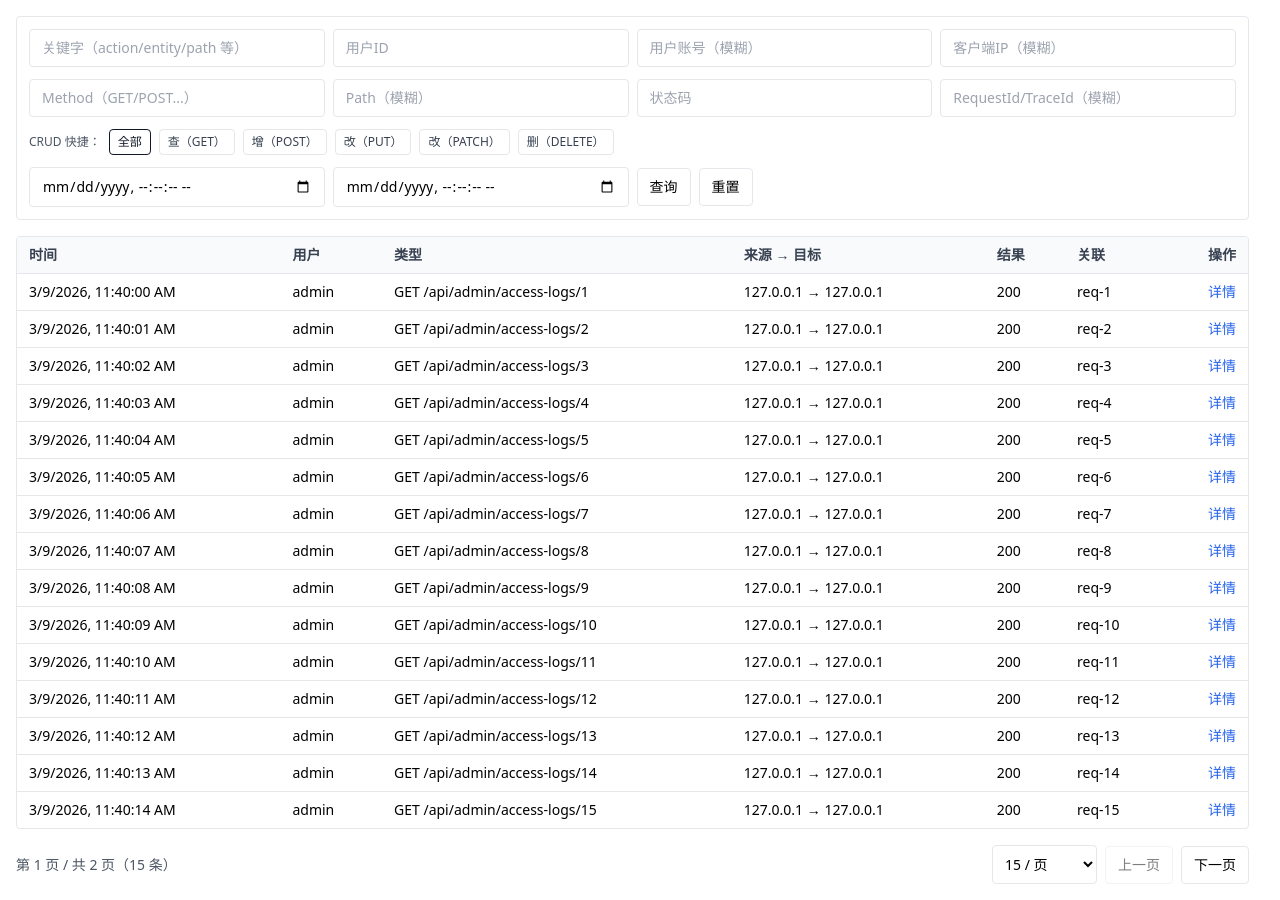
Scenario: GlobalLogsForm › can advance to the next access-log page even when backend totalPages metadata is wrong
The image size is (1280, 900).
(page scrolled)
Click the button "下一页": (1215, 864) [1181,846,1249,884]
(page scrolled)
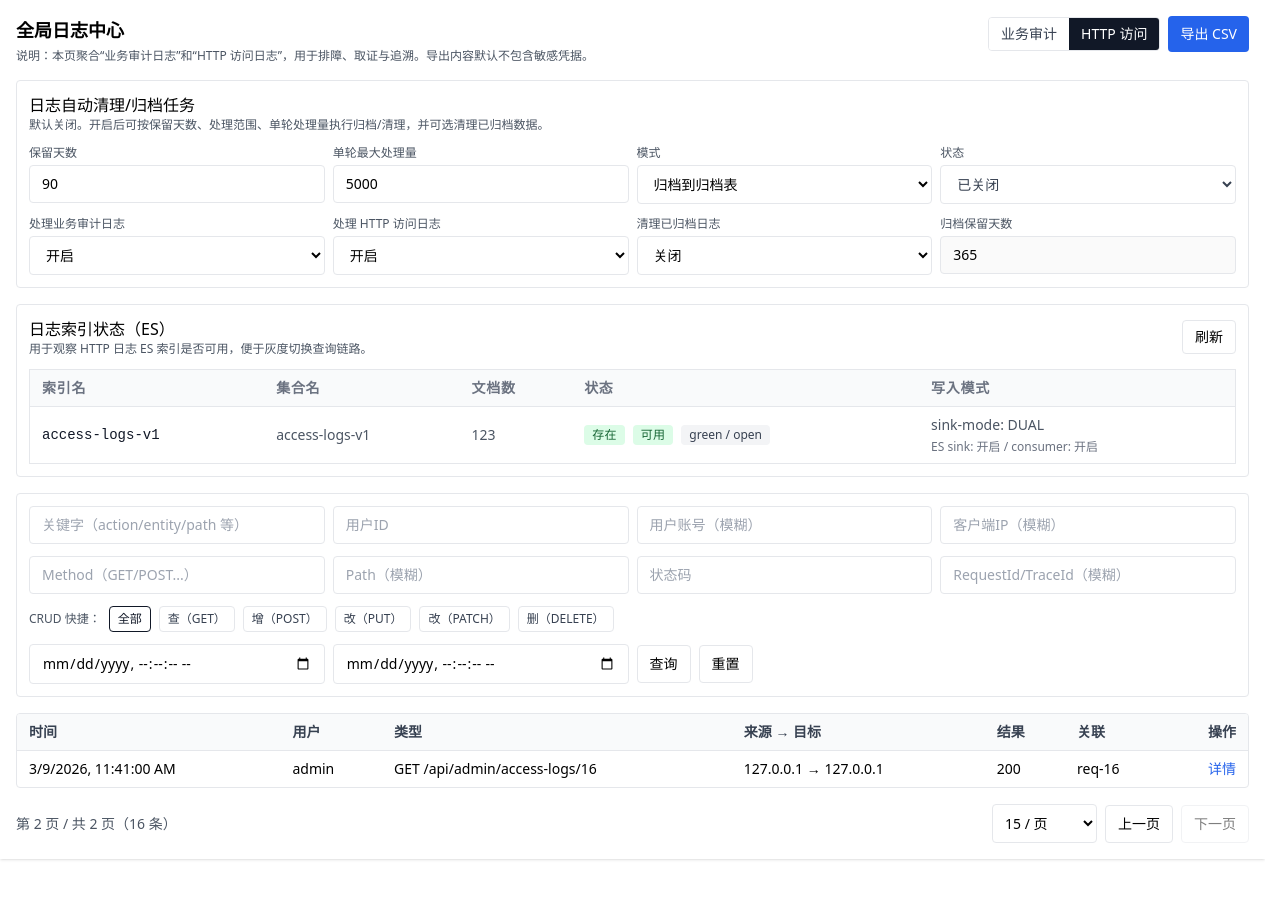
Now the text "第 2 页 / 共 2 页（16 条）" is shown, box [16,814,177,834]
